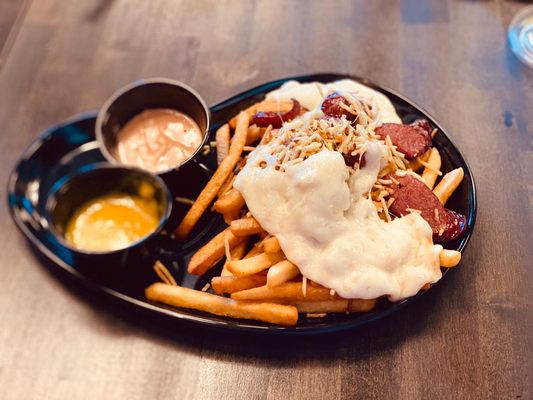sushi: (46, 164, 173, 258)
